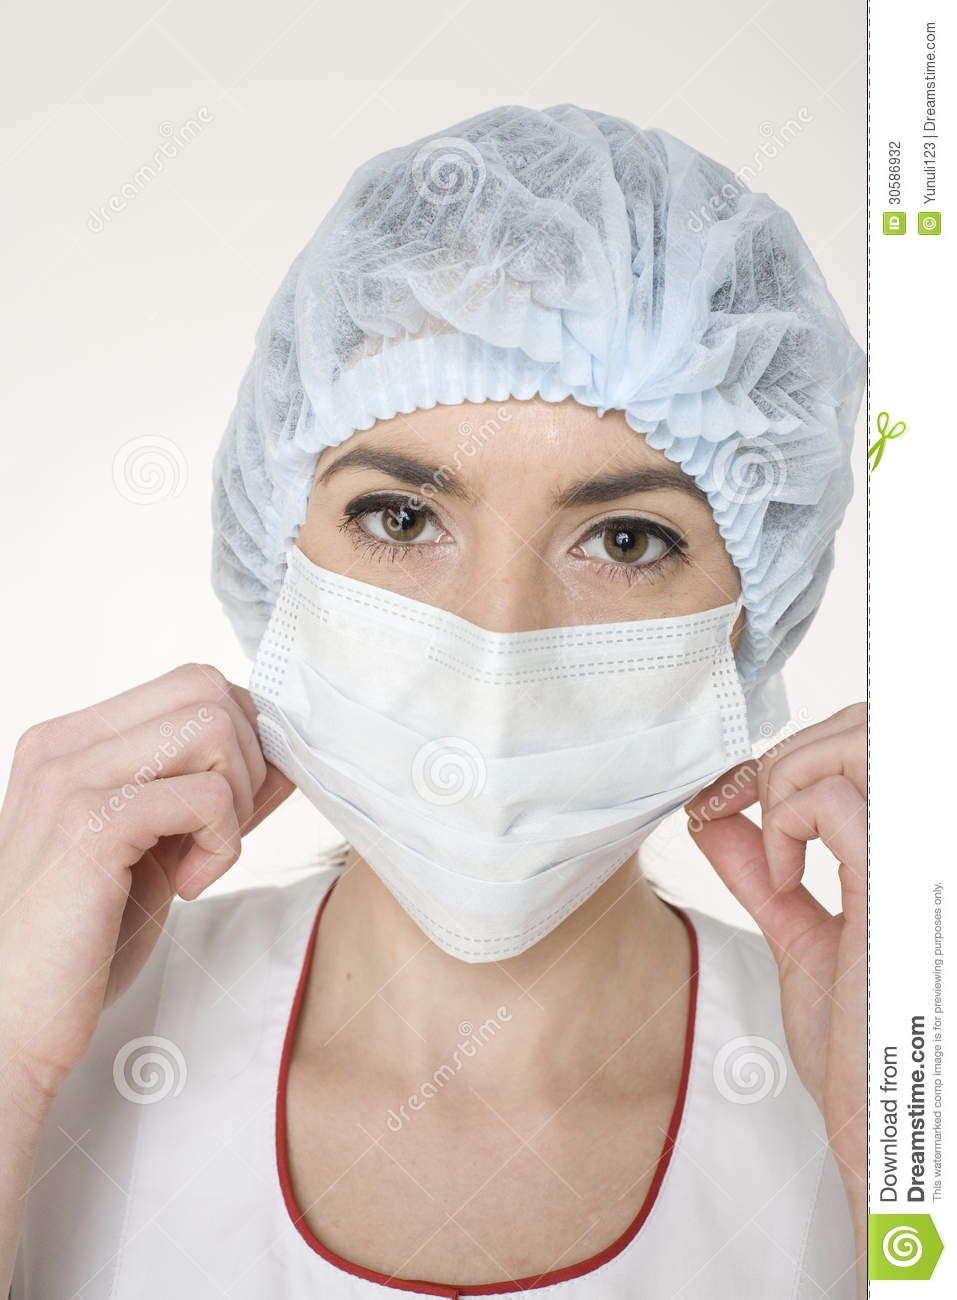mask: (242, 550, 749, 967)
